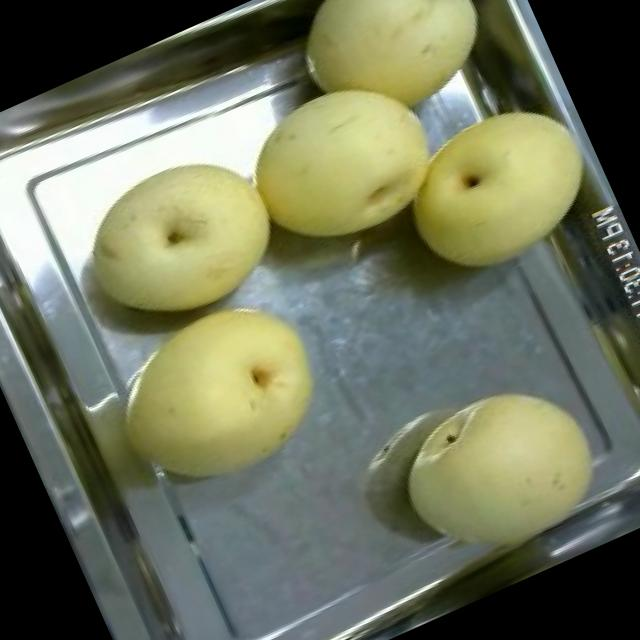Fruit: (86, 264, 356, 518), (367, 345, 638, 597), (371, 72, 627, 310), (220, 44, 472, 280), (55, 125, 306, 358), (263, 0, 521, 154)
